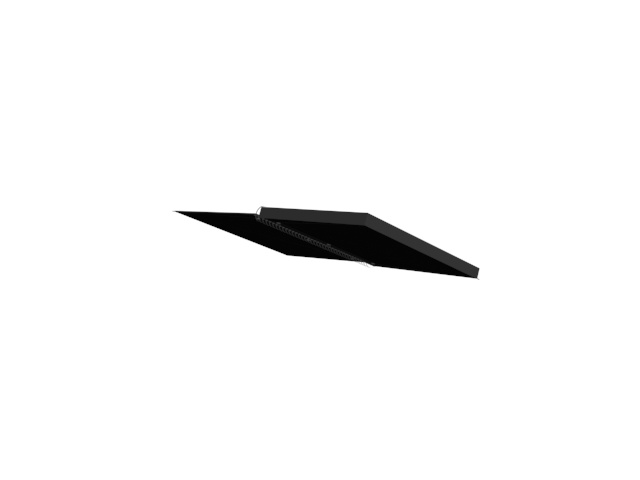paper_notebook: (169, 201, 480, 280)
